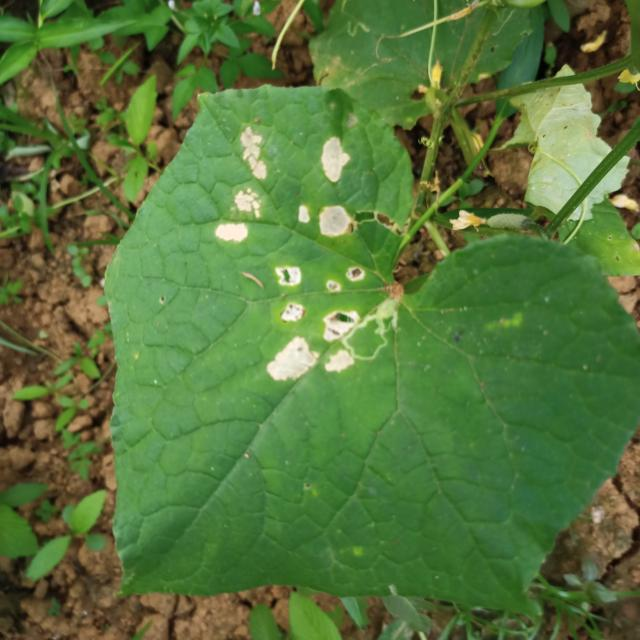disease_cucumber: (269, 137, 365, 379), (216, 127, 266, 241)
